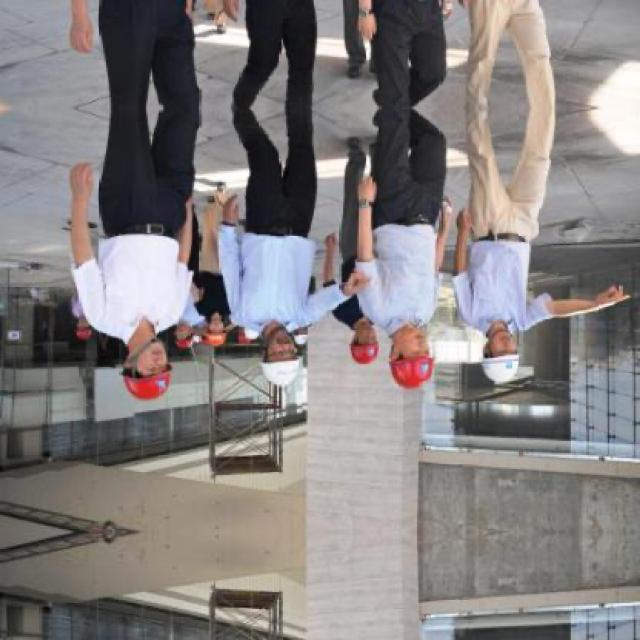con casco: (358, 275, 458, 431), (91, 299, 193, 422), (458, 277, 528, 389), (245, 292, 316, 394)
